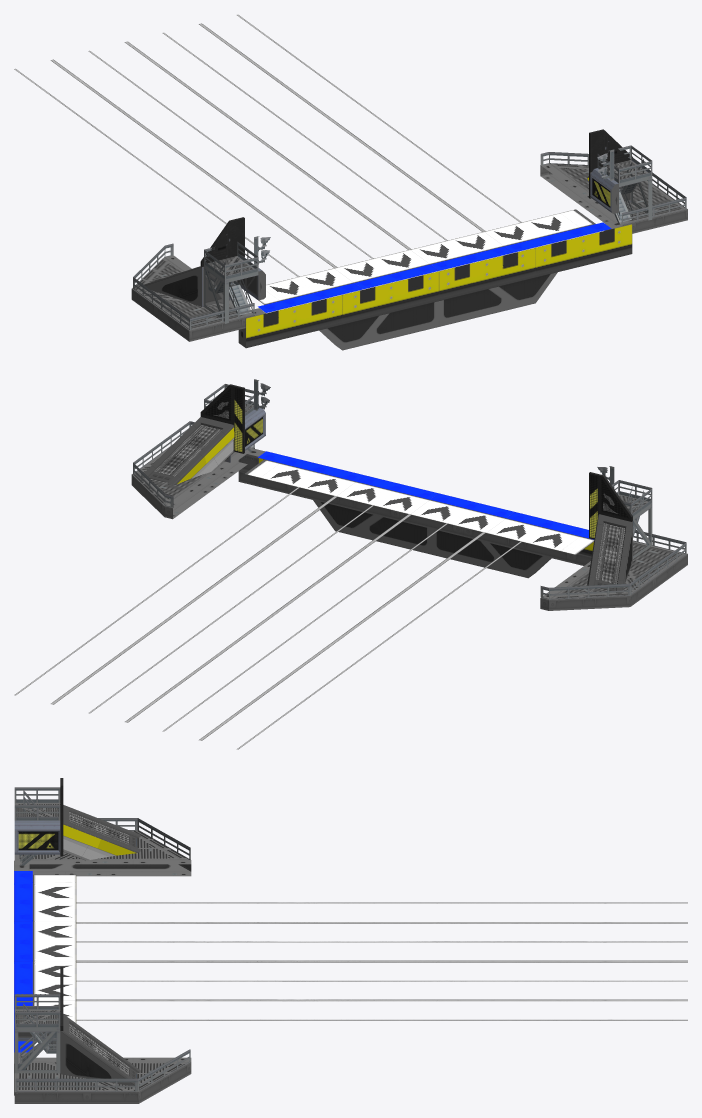
The model's file is jump_gate_area_wide.fbx.
3 renders of one model, top to bottom at view 1: azimuth 30°, elevation 25°; view 2: azimuth 150°, elevation 25°; view 3: azimuth 270°, elevation 25°, orthographic. The views are drawn at different scales.
Parts seen in each view (by area): view 1: gate, frontplate_jump, flt_lines_jump; view 2: gate, flt_lines_jump, frontplate_jump; view 3: gate, flt_lines_jump.
Boxes of the visible parts, x1=… form: gate: x1=131, y1=129, x2=687, y2=341; frontplate_jump: x1=238, y1=221, x2=632, y2=350; flt_lines_jump: x1=14, y1=14, x2=611, y2=312; gate: x1=131, y1=379, x2=687, y2=610; flt_lines_jump: x1=14, y1=451, x2=594, y2=749; frontplate_jump: x1=238, y1=449, x2=593, y2=578; gate: x1=14, y1=778, x2=191, y2=1103; flt_lines_jump: x1=14, y1=871, x2=687, y2=1052.
Bounding box in the file's own units: 5885 × 1525 × 6400.
